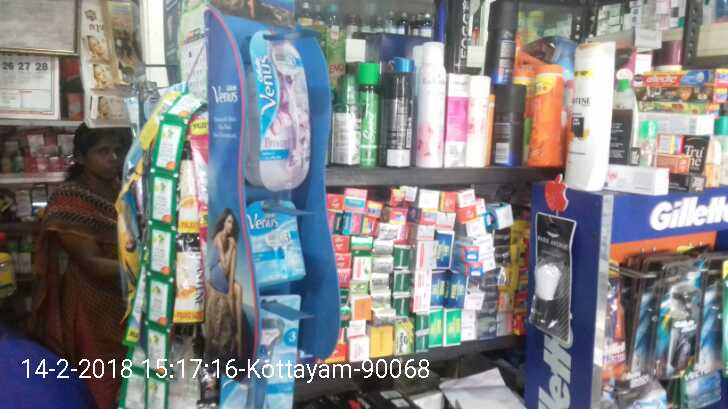beauty: (243, 28, 313, 200), (565, 40, 615, 202), (250, 297, 301, 409), (240, 207, 309, 281), (658, 277, 705, 370)
